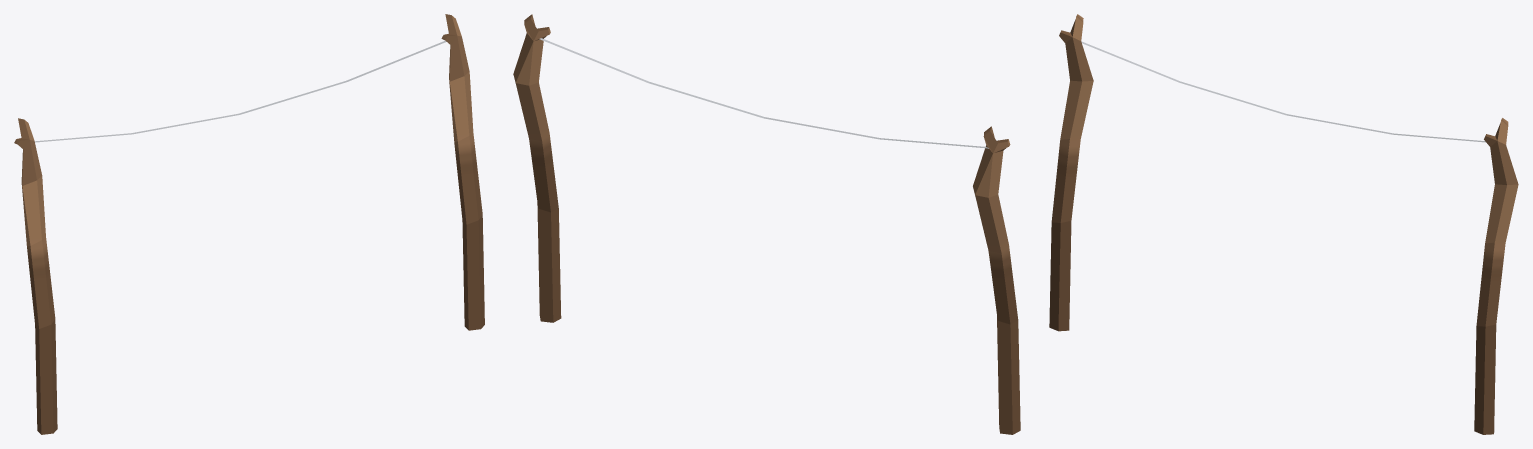
The model's file is Clothesline_01.fbx.
3 renders of one model, left to right at view 1: azimuth 30°, elevation 25°; view 2: azimuth 150°, elevation 25°; view 3: azimuth 330°, elevation 25°, orthographic. The views are drawn at different scales.
Visible parts, largest first — view 1: Clothesline_01; view 2: Clothesline_01; view 3: Clothesline_01.
Boxes of the visible parts, bbox=[...] form: Clothesline_01: bbox=[14, 14, 484, 434]; Clothesline_01: bbox=[513, 14, 1020, 434]; Clothesline_01: bbox=[1049, 14, 1518, 434].
Size of the model in its own units: 272 by 169 by 30.45.
